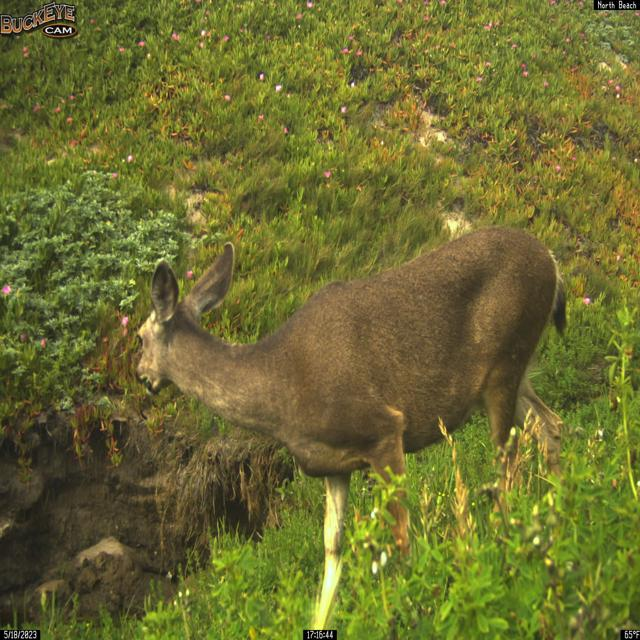deer: (135, 223, 575, 636)
